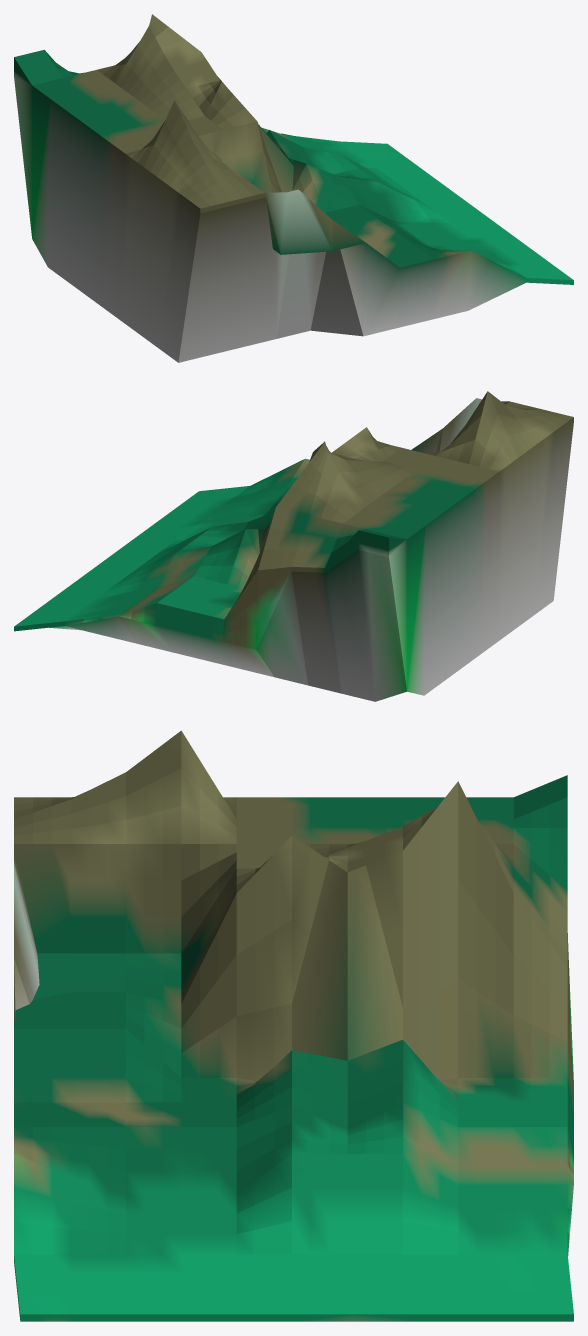
Rendered from Flatirons.glb.
3 renders of one model, top to bottom at view 1: azimuth 30°, elevation 25°; view 2: azimuth 150°, elevation 25°; view 3: azimuth 270°, elevation 25°, orthographic. The views are drawn at different scales.
Visible parts, largest first — view 1: Cube; view 2: Cube; view 3: Cube.
Boxes of the visible parts, <box> form: Cube: <box>14,14,573,362</box>; Cube: <box>14,391,573,701</box>; Cube: <box>14,730,573,1321</box>.
Bounding box in the file's own units: 172 × 101 × 149.
